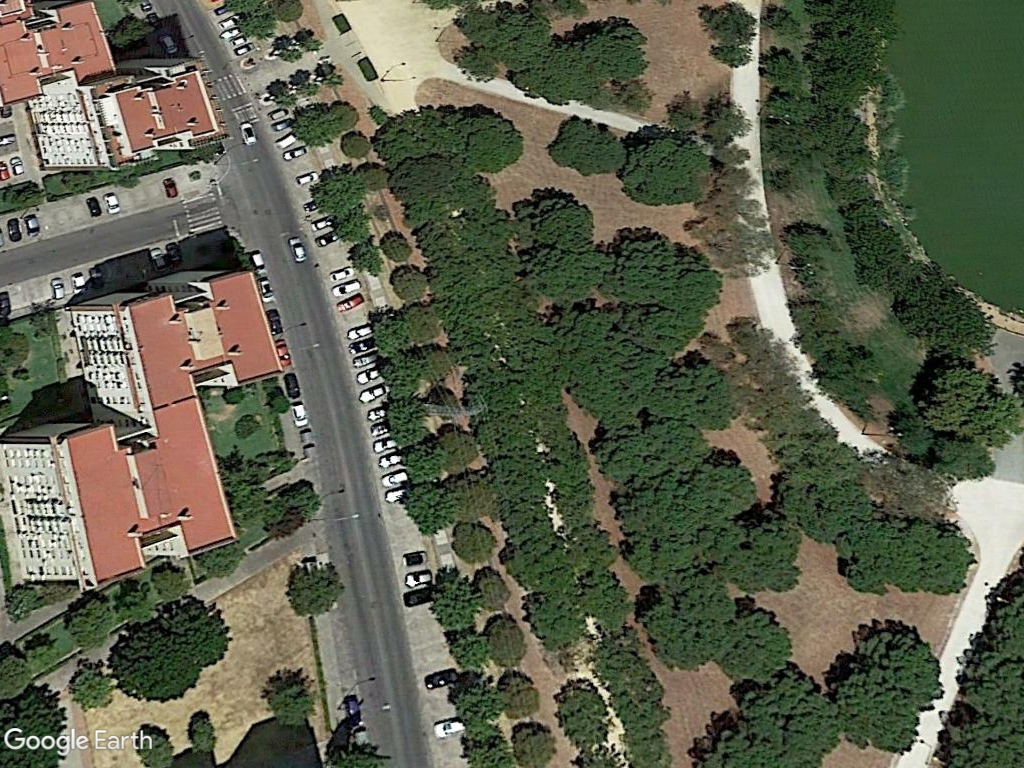car: (283, 232, 310, 269), (237, 116, 261, 153), (288, 399, 311, 434), (22, 212, 44, 243)
